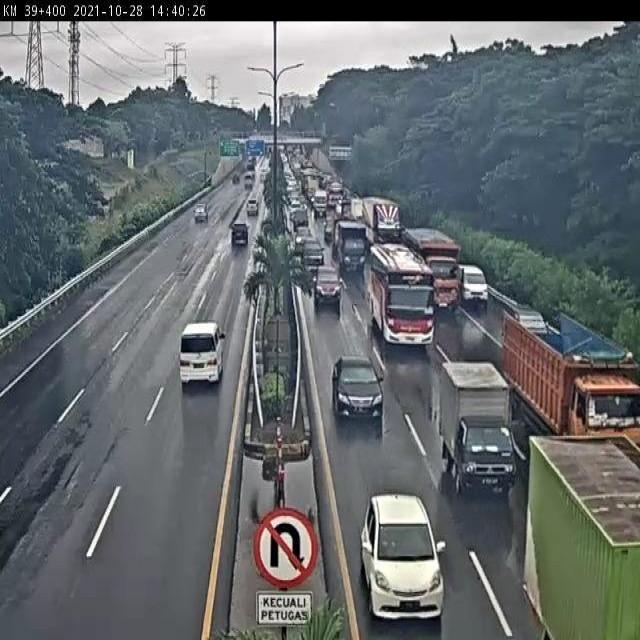bus-l-: (369, 241, 434, 348)
car: (363, 493, 447, 619), (179, 317, 225, 391), (332, 354, 383, 418), (456, 262, 491, 306), (313, 264, 341, 305), (301, 238, 324, 270), (232, 221, 251, 243)
truck-l-: (505, 311, 640, 469), (406, 229, 460, 311)
truck-m-: (337, 217, 367, 271)
truck-s-: (438, 360, 519, 492)
